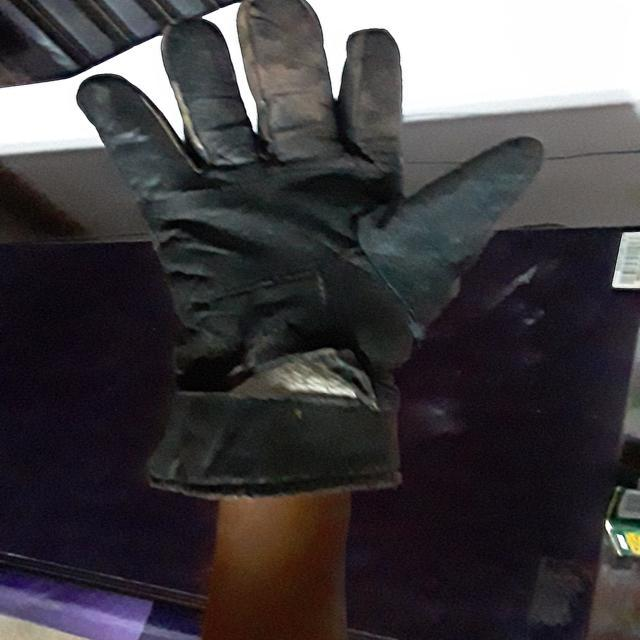glove_hand: (70, 0, 548, 509)
